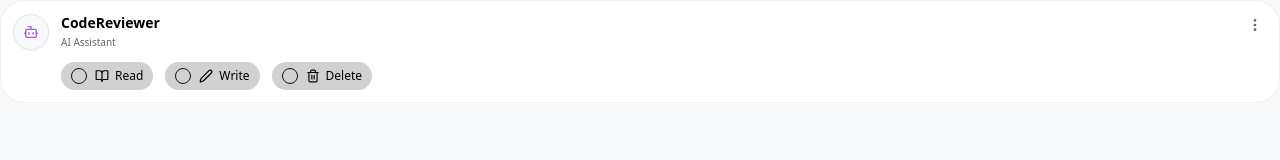
Test: CollaboratorItem Component › Bot Configuration Menu › should show Configure option in menu for bot editor
Step 1. Click the button → (1255, 25), box top-left (1243, 13), bottom-right (1267, 37)
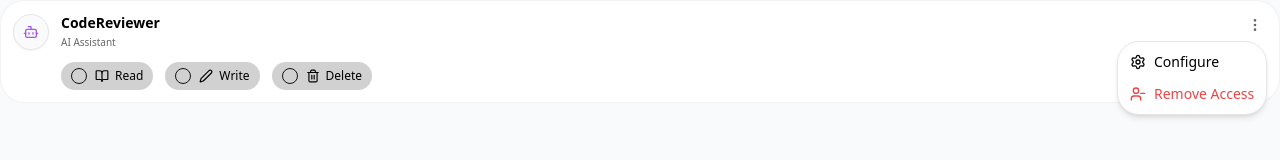
Check: the text "Configure" is shown, box top-left (1154, 52), bottom-right (1219, 72)
